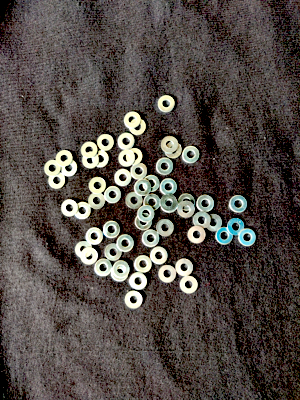circle: (130, 272, 148, 291), (111, 263, 129, 282), (239, 229, 257, 247), (227, 218, 245, 236), (216, 227, 234, 245), (188, 226, 206, 244), (157, 219, 175, 237), (160, 178, 178, 196), (134, 179, 152, 197), (137, 205, 155, 223), (135, 213, 153, 231), (151, 247, 169, 265), (125, 291, 143, 309), (114, 169, 132, 187), (92, 150, 110, 168), (104, 186, 122, 204), (103, 221, 121, 239), (113, 261, 131, 279), (95, 259, 113, 277), (86, 227, 104, 245), (81, 247, 99, 265), (176, 258, 193, 277), (230, 195, 247, 213), (205, 214, 223, 231), (194, 212, 211, 230), (197, 195, 215, 212), (183, 146, 200, 164), (165, 142, 183, 159), (162, 136, 179, 154), (158, 96, 176, 113), (181, 276, 198, 294), (159, 265, 176, 283), (178, 194, 196, 211), (160, 194, 178, 211), (135, 255, 152, 273), (126, 148, 144, 165), (97, 134, 115, 151), (89, 177, 107, 194), (75, 202, 92, 220), (61, 200, 79, 217), (117, 235, 135, 252), (61, 159, 78, 177), (130, 119, 147, 136), (124, 112, 141, 129), (178, 201, 195, 218), (161, 196, 178, 213), (157, 158, 174, 175), (143, 175, 160, 192), (144, 194, 161, 211), (143, 230, 160, 247), (126, 192, 143, 209), (131, 163, 148, 180), (119, 150, 136, 167), (118, 133, 135, 150), (83, 152, 100, 169), (81, 142, 98, 159), (89, 193, 106, 210), (105, 244, 122, 261), (49, 172, 66, 189), (56, 150, 73, 167), (76, 241, 92, 258), (45, 160, 61, 177)
